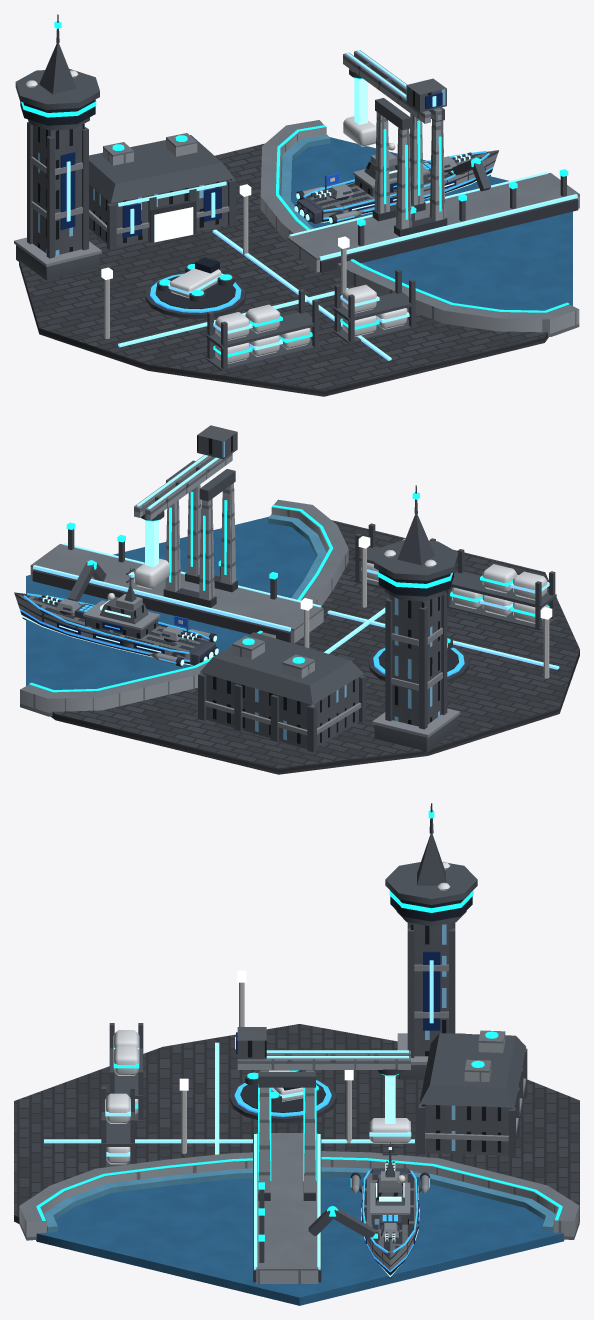
Rendered from port_scifi_blue.glb.
3 renders of one model, top to bottom at view 1: azimuth 30°, elevation 25°; view 2: azimuth 150°, elevation 25°; view 3: azimuth 270°, elevation 25°, orthographic. The views are drawn at different scales.
Visible parts, largest first — view 1: port_scifi_blue; view 2: port_scifi_blue; view 3: port_scifi_blue.
Boxes of the visible parts, box(x1,y1,x2,y2) form: port_scifi_blue: box(14, 14, 579, 396); port_scifi_blue: box(14, 425, 579, 774); port_scifi_blue: box(14, 803, 579, 1305).
Size of the model in its own units: 1.58 by 0.72 by 1.37.
Materials: 9 (1 with a texture image).
